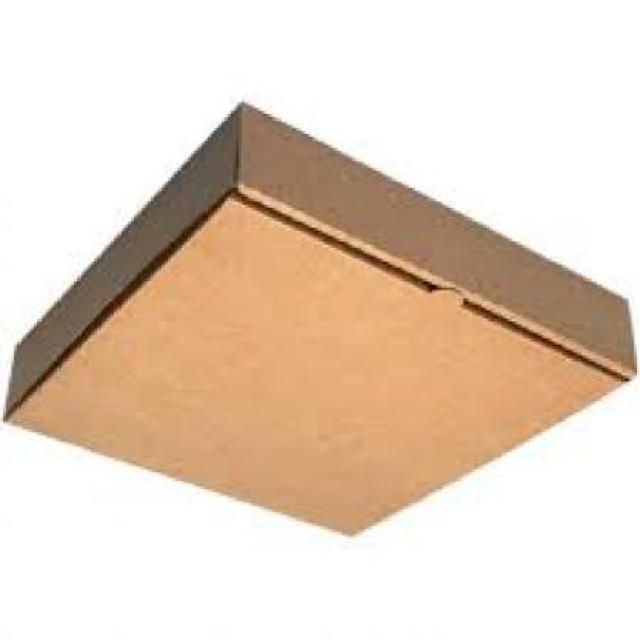CARDBOARD: (9, 111, 632, 532)
